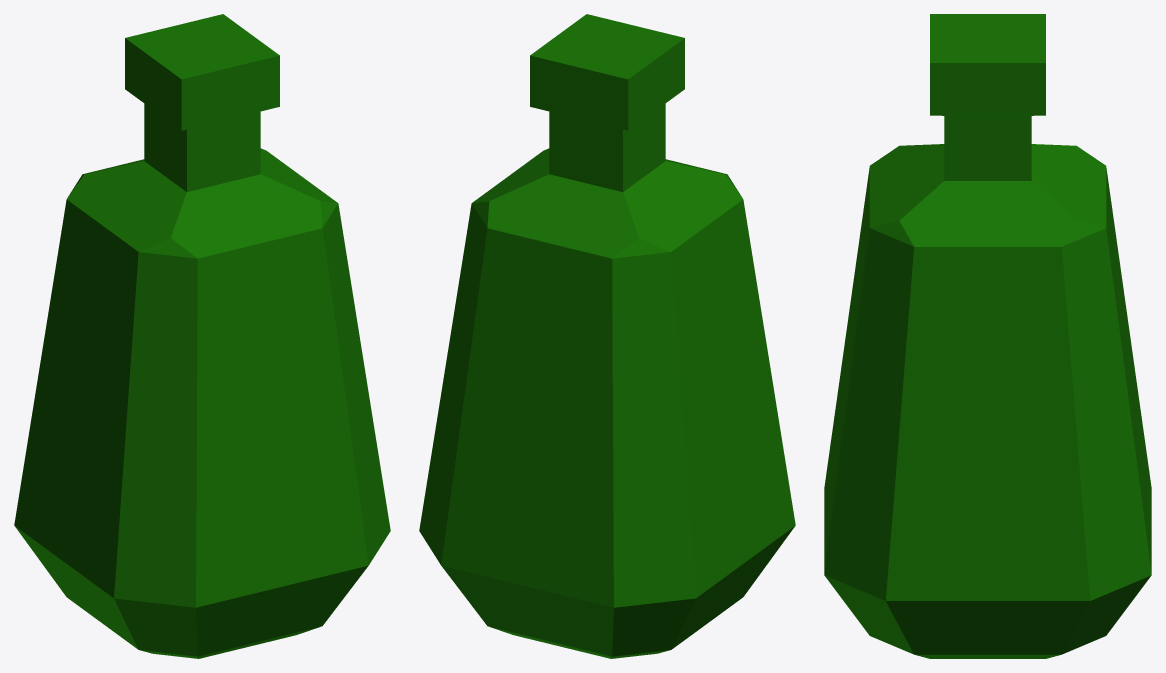
The model's file is Bottle.glb.
3 views of the same model, side by side, from view 1: azimuth 30°, elevation 25°; view 2: azimuth 150°, elevation 25°; view 3: azimuth 270°, elevation 25° (orthographic). The views are drawn at different scales.
Parts seen in each view (by area): view 1: Cube; view 2: Cube; view 3: Cube.
Part boxes in pixels (x1,y1,x2,y2): Cube: (14,14,390,658); Cube: (419,14,795,658); Cube: (824,14,1151,658).
Size of the model in its own units: 2.77 by 5.43 by 2.77.
